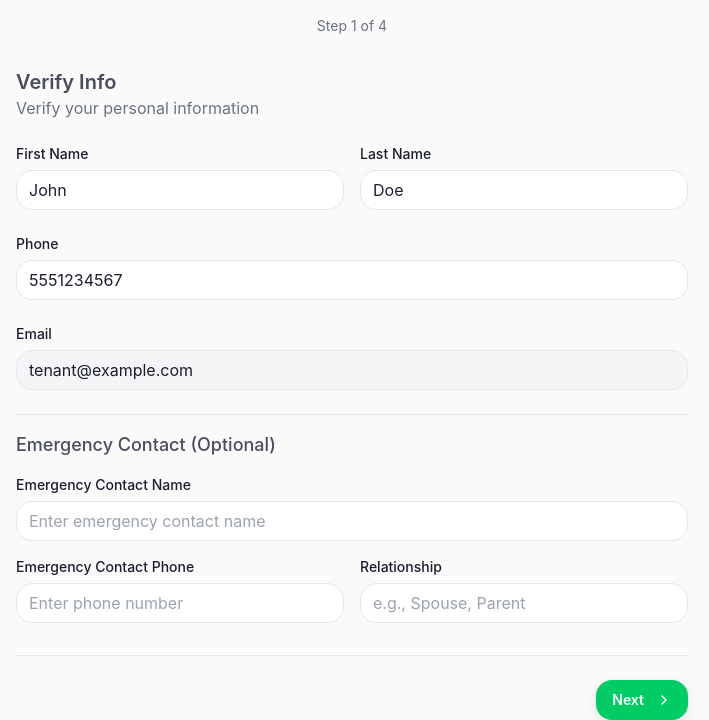
Scenario: OnboardingWizard › Step 2: Payment Method › should advance when skip is clicked
The width and height of the screenshot is (709, 720).
(page scrolled)
Click the button "Next" at (642, 700), box [596,680,688,719]
(page scrolled)
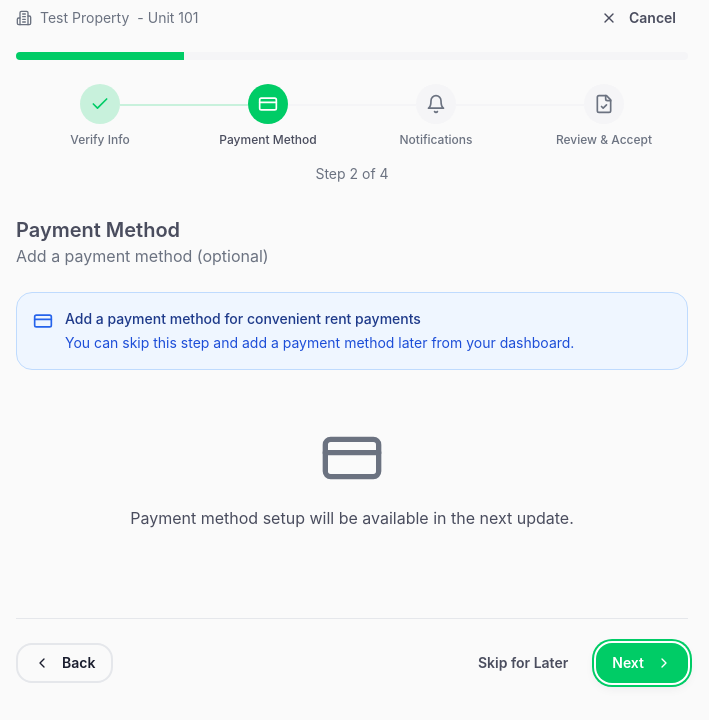
Now the text "Step 2 of 4" is shown, box [315,165,389,182]
Click the button "Skip for Later" at (523, 663), box [462,643,584,683]
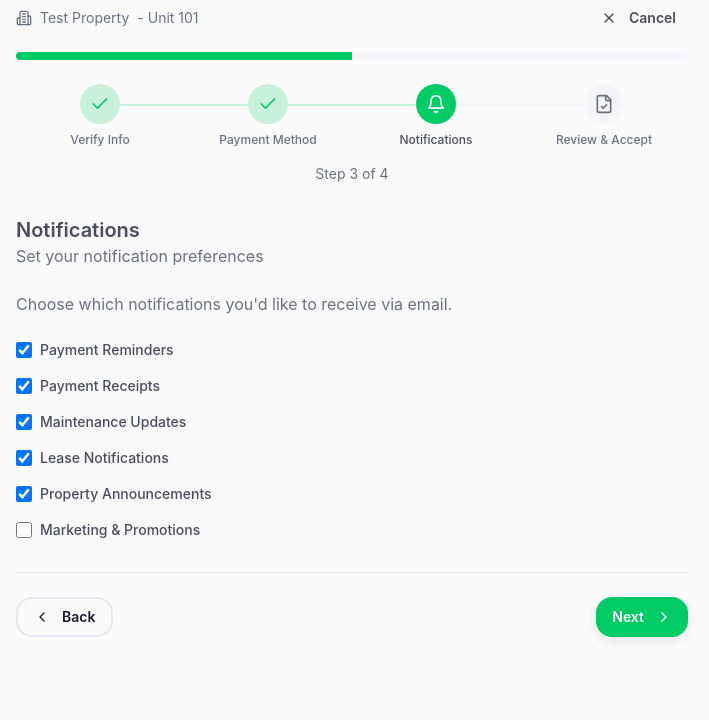
Now the text "Step 3 of 4" is shown, box [315,165,389,182]
